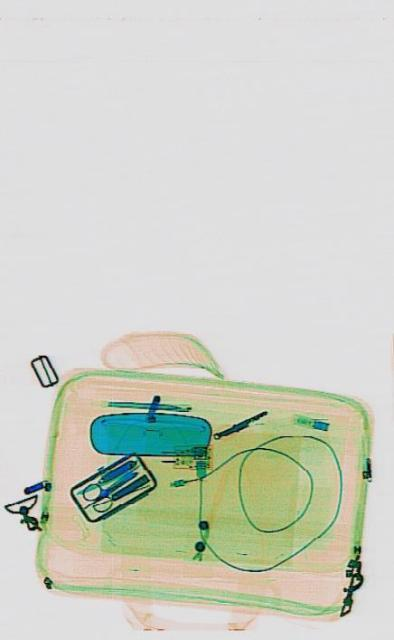Scissors: (79, 456, 140, 520)
